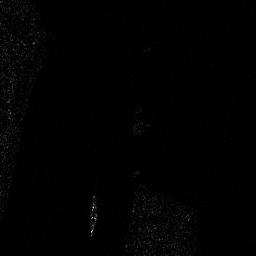ship: (87, 199, 98, 236)
